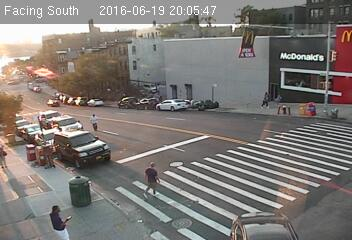neg: (238, 29, 259, 57), (242, 136, 262, 163), (146, 39, 159, 56), (126, 92, 139, 109), (293, 48, 304, 63), (128, 44, 138, 56)
pos: (138, 162, 166, 199), (45, 202, 72, 237), (88, 112, 104, 133), (259, 90, 272, 108), (273, 92, 286, 109)
